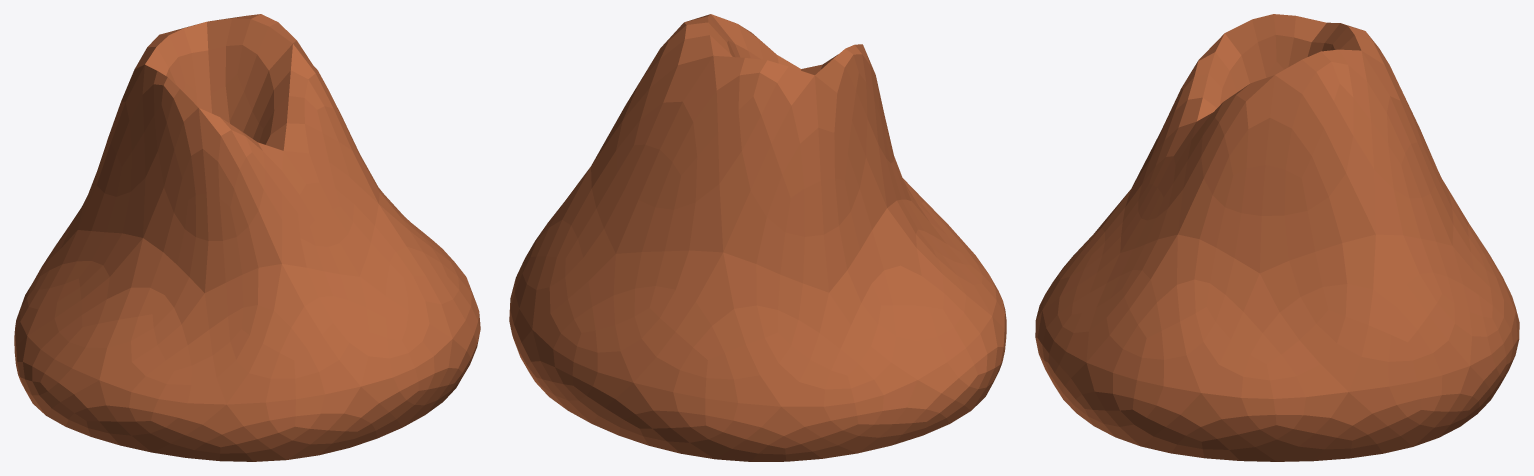
Rendered from Vulcano big 3.fbx.
3 views of the same model, side by side, from view 1: azimuth 30°, elevation 25°; view 2: azimuth 150°, elevation 25°; view 3: azimuth 270°, elevation 25° (orthographic). The views are drawn at different scales.
Visible parts, largest first — view 1: Icosphere.006; view 2: Icosphere.006; view 3: Icosphere.006.
Part boxes in pixels (box(x1,y1,x2,y2)): Icosphere.006: box(14, 14, 480, 461); Icosphere.006: box(509, 14, 1006, 461); Icosphere.006: box(1035, 14, 1519, 461).
Bounding box in the file's own units: 2875 × 2232 × 2876.
